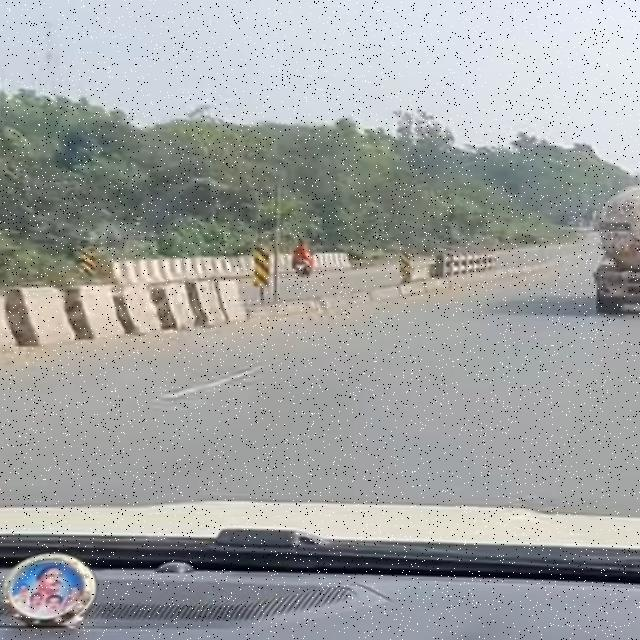object_hazzard_to_left: (253, 244, 269, 289), (78, 244, 94, 276), (398, 250, 413, 284)
